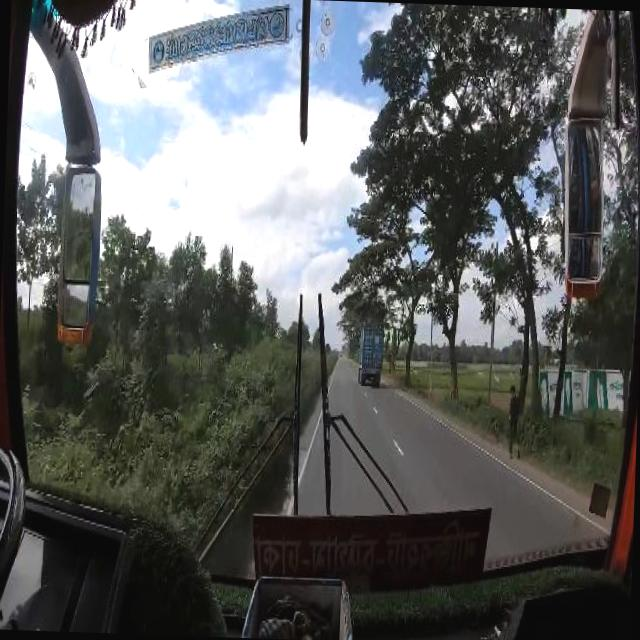truck: (358, 327, 385, 385)
